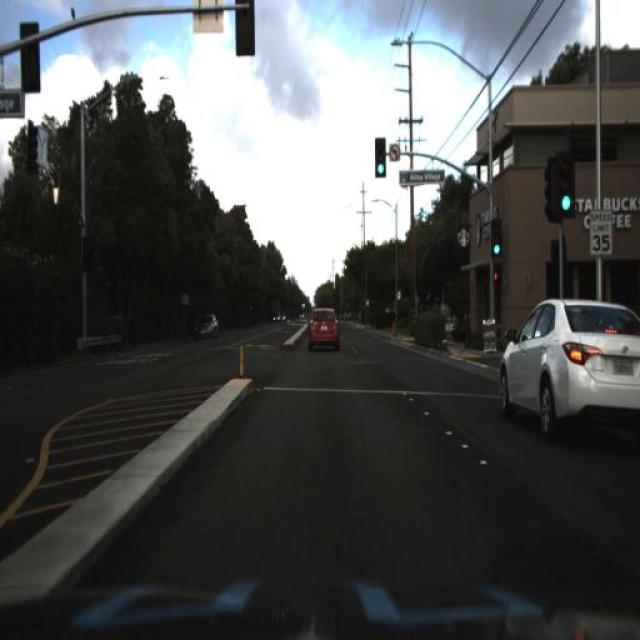car: (497, 286, 639, 448), (300, 299, 344, 353), (191, 306, 220, 344)
trafficLight-GreenLeft: (374, 136, 391, 178), (492, 218, 503, 262), (372, 154, 388, 184), (490, 214, 500, 257)
